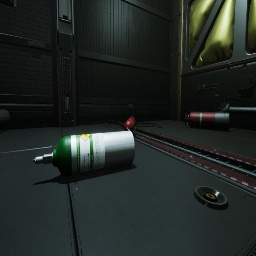0: (33, 131, 135, 177)
FireExtinguisher ]: (121, 116, 137, 136)
NitrogenTank ,: (185, 111, 230, 132), (0, 109, 10, 130)
